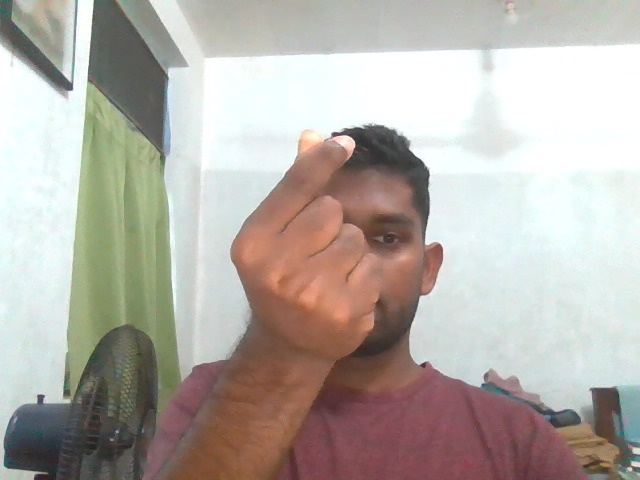iloveyou: (204, 118, 391, 368)
